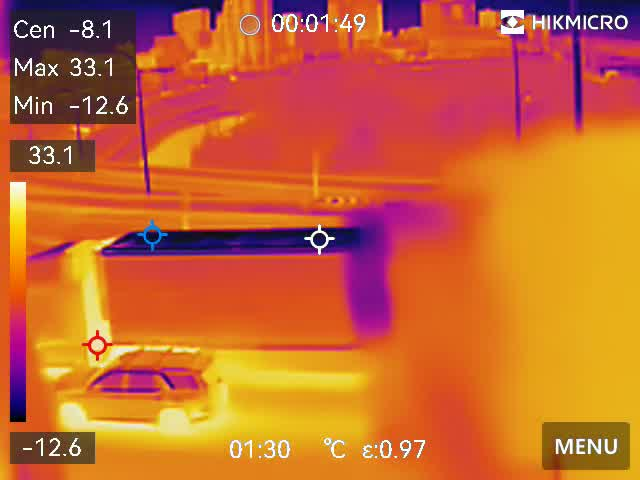heavyTruck: (24, 226, 390, 355)
largeCar: (51, 346, 224, 433)
